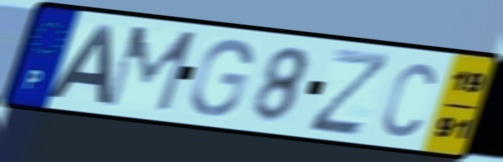8: (250, 44, 314, 125)
A: (43, 21, 115, 105)
C: (379, 59, 438, 140)
G: (187, 37, 255, 119)
M: (100, 24, 200, 116)
Z: (304, 46, 395, 138)
